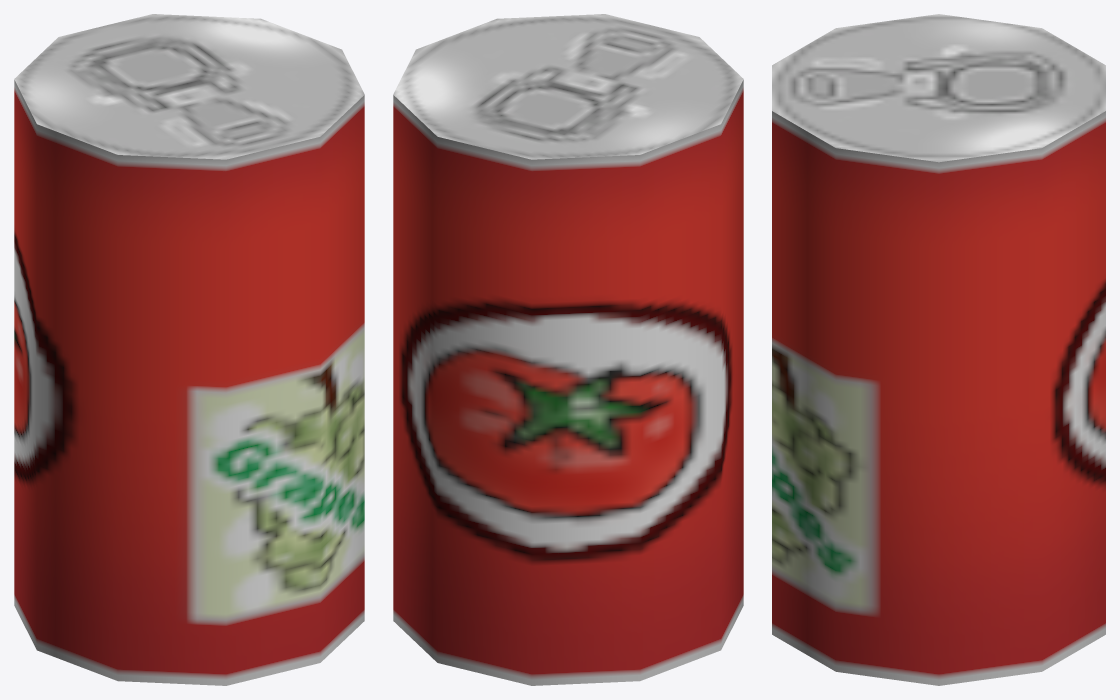
File: giftgoods083a.fbx
3 renders of one model, left to right at view 1: azimuth 30°, elevation 25°; view 2: azimuth 150°, elevation 25°; view 3: azimuth 270°, elevation 25°, orthographic.
Parts seen in each view (by area): view 1: giftgoods083a; view 2: giftgoods083a; view 3: giftgoods083a.
Boxes of the visible parts, bbox=[...] form: giftgoods083a: bbox=[14, 14, 364, 685]; giftgoods083a: bbox=[393, 14, 743, 685]; giftgoods083a: bbox=[772, 14, 1105, 685].
Bounding box in the file's own units: 0.0989 × 0.1628 × 0.094.
